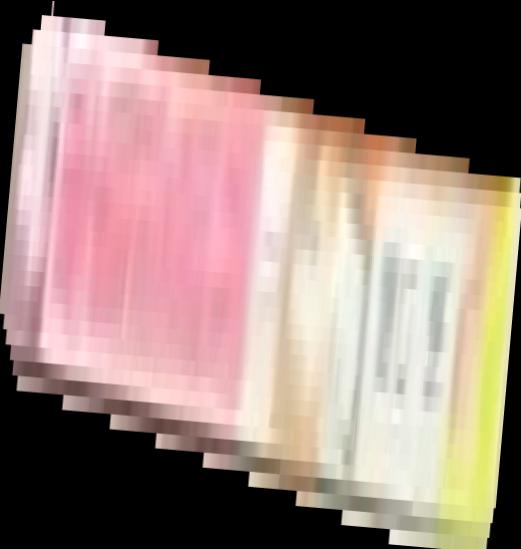flat: (1, 1, 521, 549)
